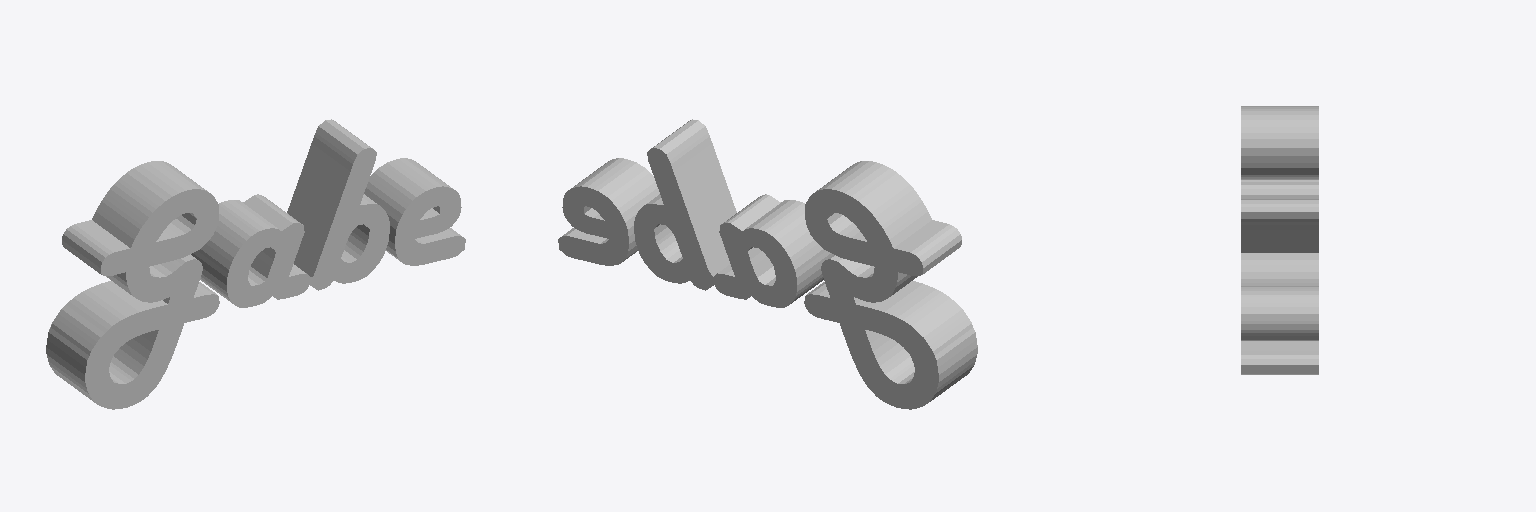
Rendered from just-g.obj.
3 views of the same model, side by side, from view 1: azimuth 30°, elevation 25°; view 2: azimuth 150°, elevation 25°; view 3: azimuth 270°, elevation 25° (orthographic).
Visible parts, largest first — view 1: Text.002_Text.001; view 2: Text.002_Text.001; view 3: Text.002_Text.001.
Part boxes in pixels (x1,y1,x2,y2): Text.002_Text.001: (46, 119, 465, 409); Text.002_Text.001: (558, 119, 977, 409); Text.002_Text.001: (1241, 106, 1318, 374).
Bounding box in the file's own units: 1.62 × 0.8217 × 0.2861.